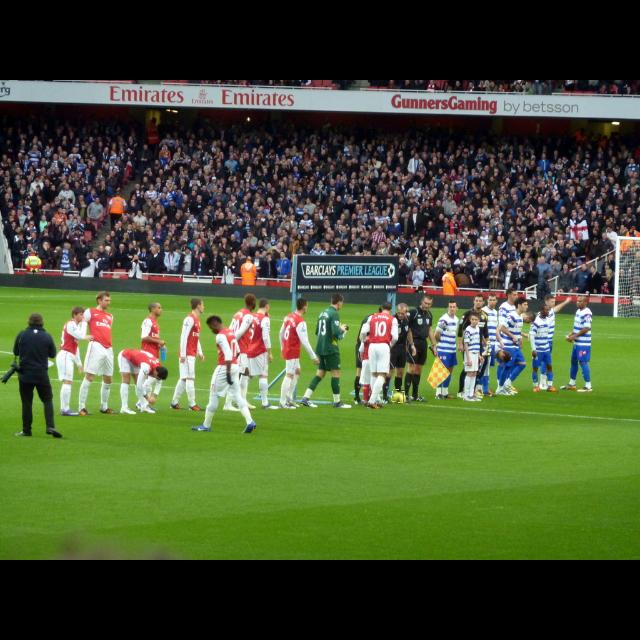Football: (392, 390, 404, 402)
